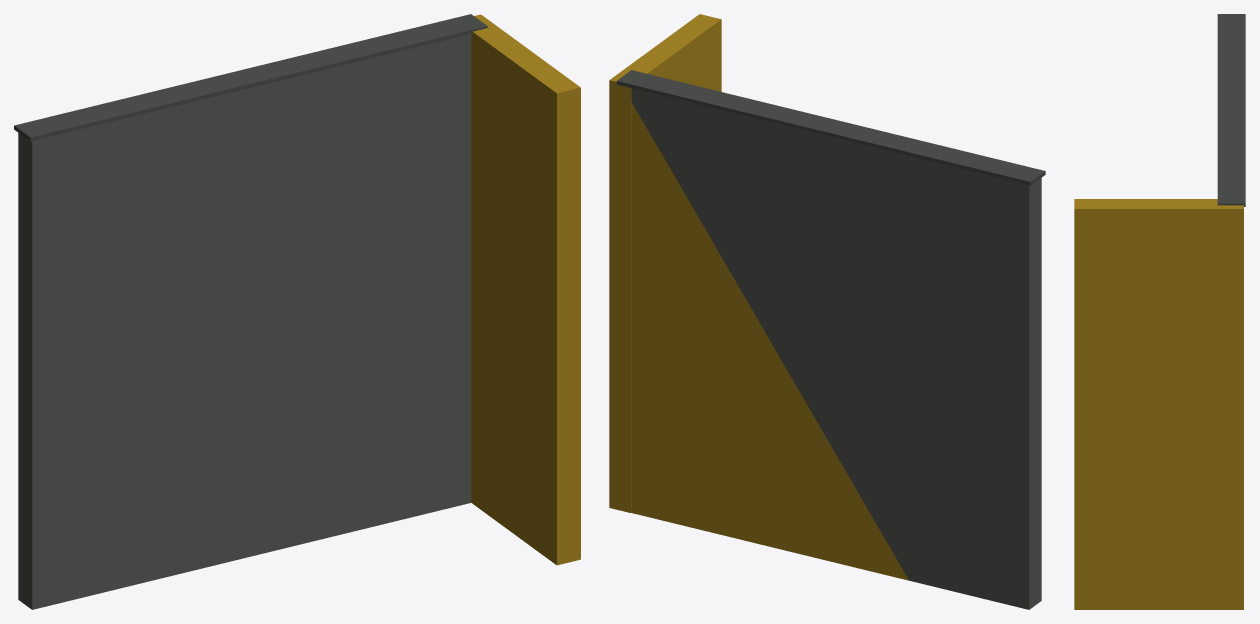
Rendered from angular-exhibition-wall.glb.
3 renders of one model, left to right at view 1: azimuth 30°, elevation 25°; view 2: azimuth 150°, elevation 25°; view 3: azimuth 270°, elevation 25°, orthographic. The views are drawn at different scales.
Visible parts, largest first — view 1: gray_front_wall, yellow_return_wall, top_edge_cap; view 2: gray_front_wall, yellow_diagonal_face, yellow_return_wall, top_edge_cap; view 3: yellow_return_wall, top_edge_cap.
Part boxes in pixels (x1,y1,x2,y2): gray_front_wall: (18, 34, 471, 609); yellow_return_wall: (471, 14, 580, 565); top_edge_cap: (14, 14, 487, 141); gray_front_wall: (631, 88, 1041, 609); yellow_diagonal_face: (631, 102, 908, 580); yellow_return_wall: (609, 14, 721, 512); top_edge_cap: (616, 70, 1045, 185); yellow_return_wall: (1074, 199, 1243, 609); top_edge_cap: (1217, 14, 1245, 206).
Size of the model in its own units: 3.1 by 3.01 by 1.16.
